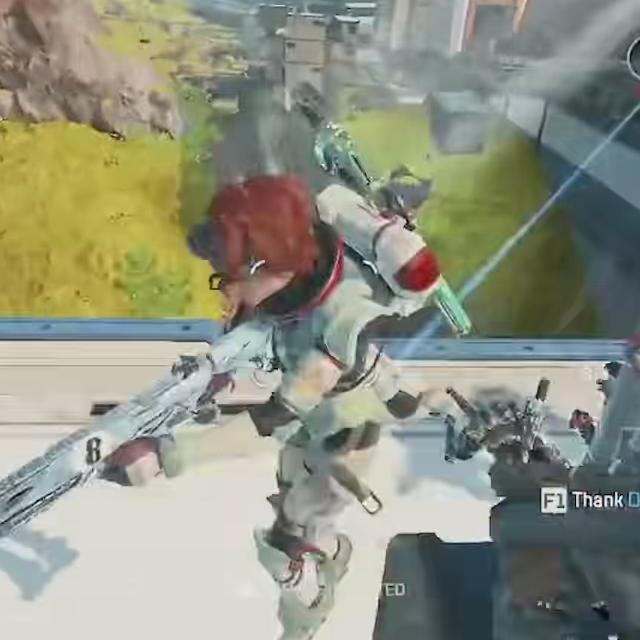avatar: (187, 166, 444, 640)
